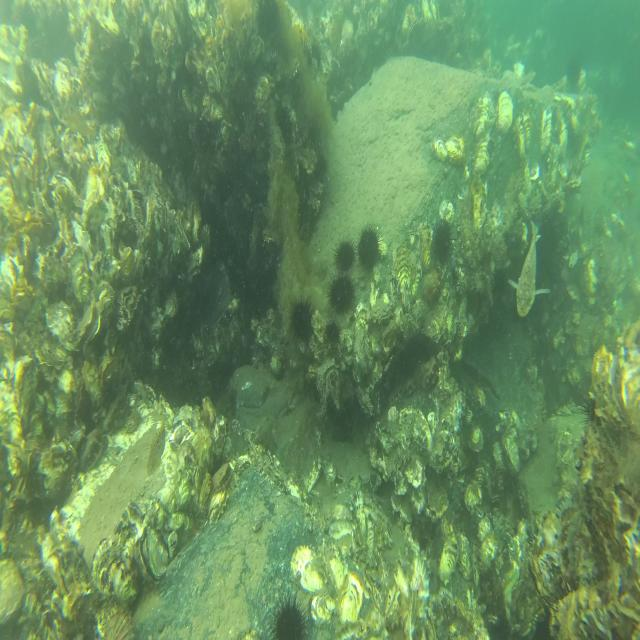echinus: (267, 583, 310, 638), (288, 293, 316, 348), (355, 222, 384, 274), (328, 273, 358, 315), (430, 218, 456, 265), (334, 234, 359, 273), (323, 315, 343, 351)
